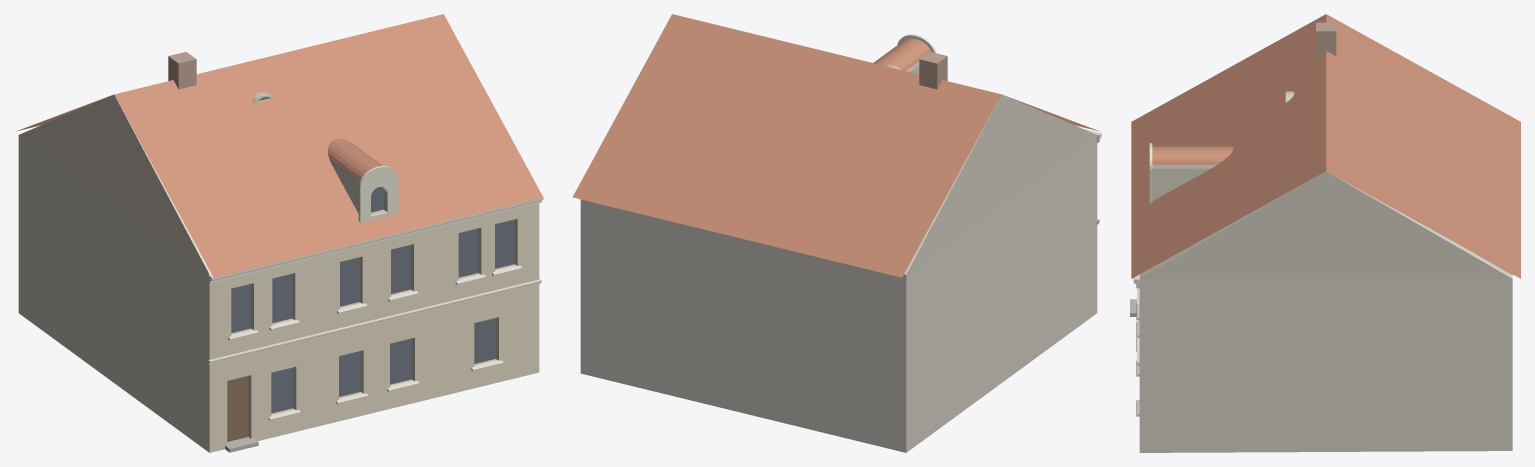
3 views of the same model, side by side, from view 1: azimuth 30°, elevation 25°; view 2: azimuth 150°, elevation 25°; view 3: azimuth 270°, elevation 25° (orthographic). The views are drawn at different scales.
Visible parts, largest first — view 1: CP_261_Masonry, CP_261_Roof, CP_261_Gable_L_gable, CP_261_Dormer_dormer1, CP_261_Cornice_eave_0, CP_261_Cornice_string_0, CP_261_Dormer_dormer1_frame, CP_261_Chimney_0; view 2: CP_261_Masonry, CP_261_Roof, CP_261_Gable_L_gable, CP_261_Dormer_dormer1, CP_261_Chimney_0; view 3: CP_261_Masonry, CP_261_Roof, CP_261_Gable_R_gable, CP_261_Dormer_dormer1, CP_261_Chimney_0.
Part boxes in pixels (box(x1,y1,x2,y2)): CP_261_Masonry: box(18, 135, 539, 452); CP_261_Roof: box(15, 14, 542, 277); CP_261_Gable_L_gable: box(19, 94, 211, 274); CP_261_Dormer_dormer1: box(328, 138, 386, 215); CP_261_Cornice_eave_0: box(208, 196, 543, 283); CP_261_Cornice_string_0: box(208, 279, 541, 364); CP_261_Dormer_dormer1_frame: box(358, 165, 398, 222); CP_261_Chimney_0: box(168, 52, 196, 89); CP_261_Masonry: box(580, 135, 1097, 452); CP_261_Roof: box(572, 14, 1099, 277); CP_261_Gable_L_gable: box(904, 94, 1096, 274); CP_261_Dormer_dormer1: box(873, 38, 931, 73); CP_261_Chimney_0: box(919, 51, 947, 89); CP_261_Masonry: box(1139, 253, 1512, 452); CP_261_Roof: box(1131, 14, 1520, 278); CP_261_Gable_R_gable: box(1139, 171, 1512, 278); CP_261_Dormer_dormer1: box(1152, 146, 1233, 200); CP_261_Chimney_0: box(1316, 22, 1336, 56).
Bounding box in the file's own units: 13.85 × 12.3 × 14.45.
